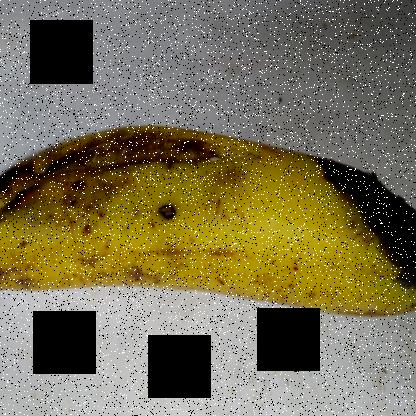rotten: (0, 64, 244, 295), (288, 128, 415, 324)
